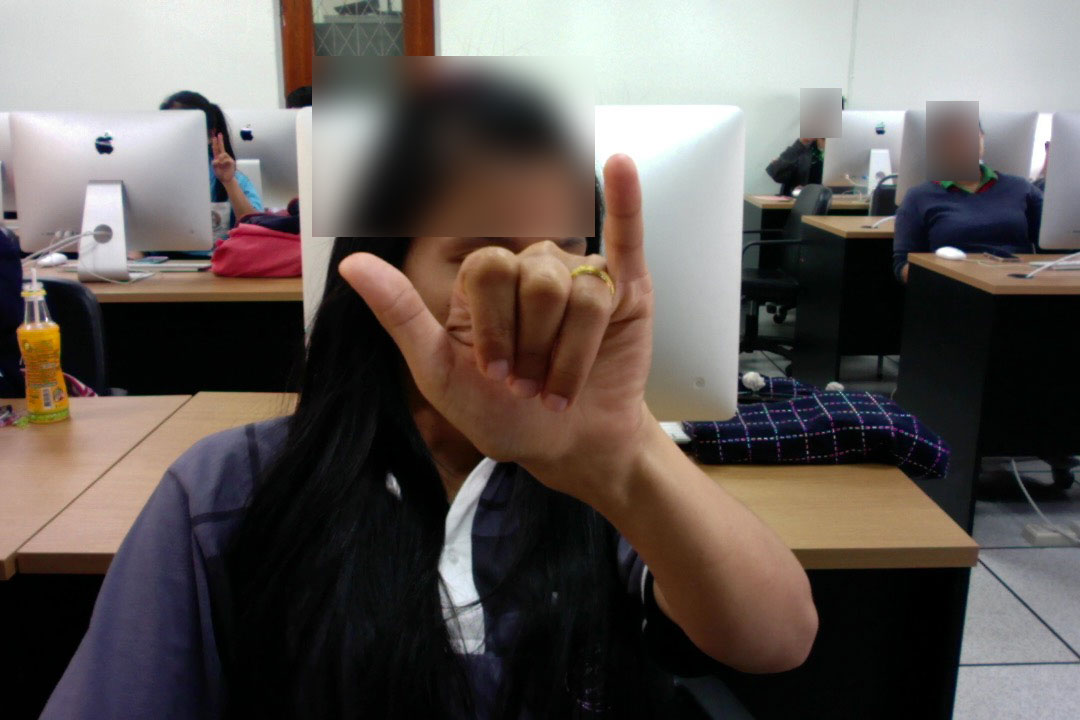yor: (330, 146, 678, 466)
